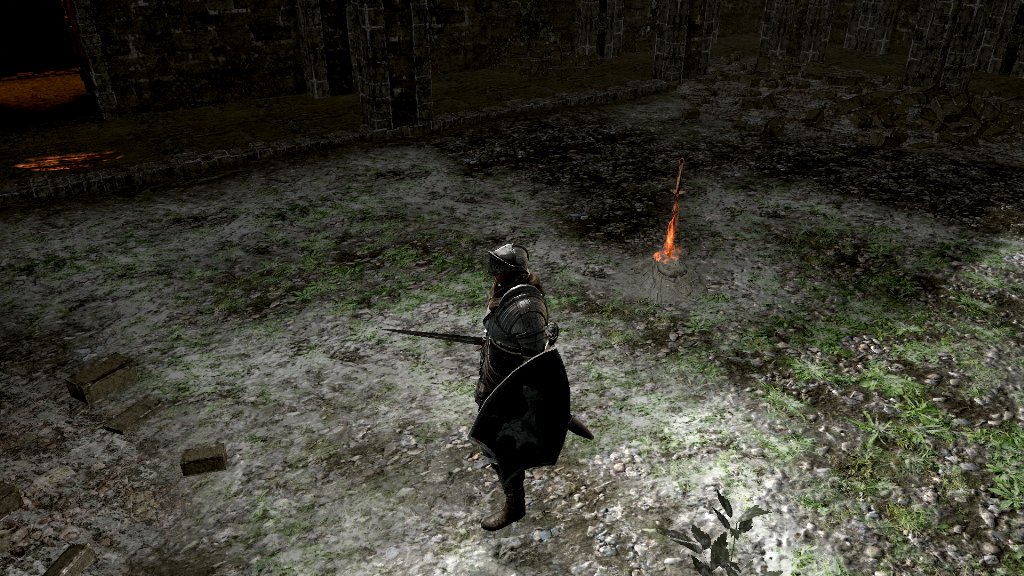bonfire: (653, 156, 695, 279)
player: (380, 242, 576, 535)
